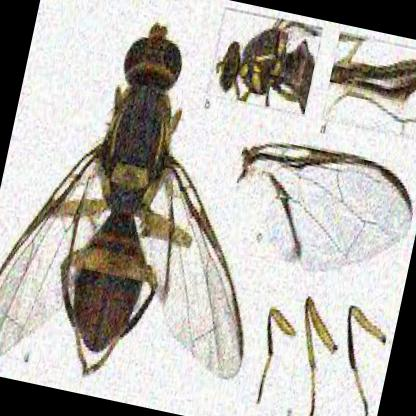fruit fly: (0, 23, 244, 378)
